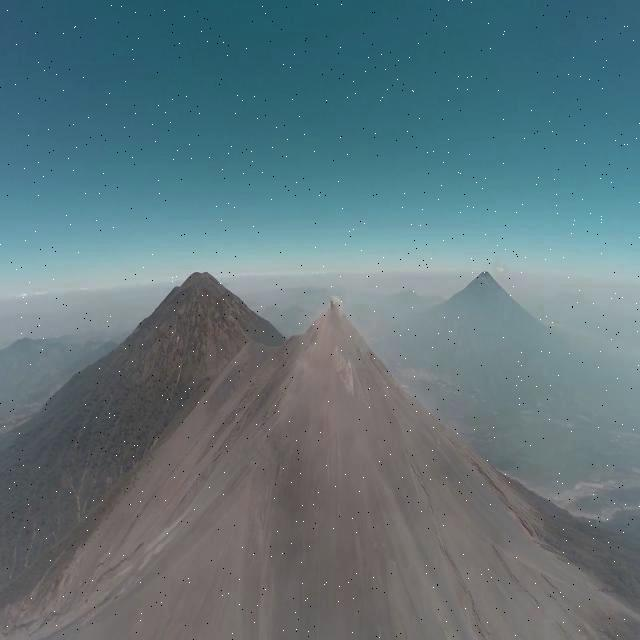Plume: (328, 292, 343, 320)
Summit: (283, 309, 398, 393)
